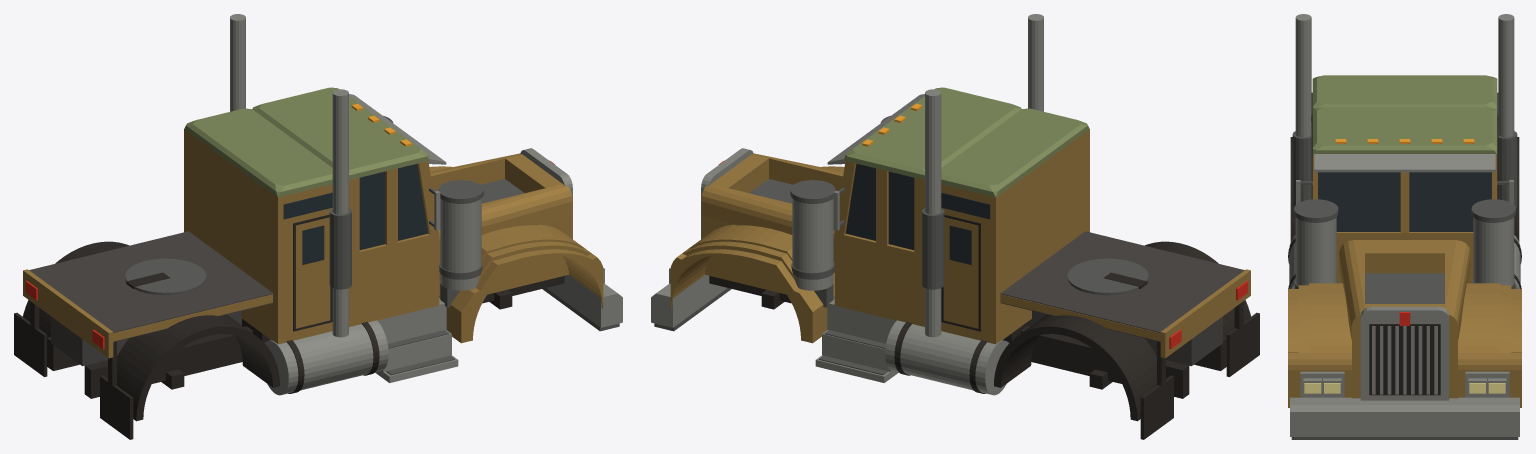
Rendered from base_tractor.glb.
3 views of the same model, side by side, from view 1: azimuth 30°, elevation 25°; view 2: azimuth 150°, elevation 25°; view 3: azimuth 270°, elevation 25° (orthographic).
Parts seen in each view (by area): view 1: base_tractor; view 2: base_tractor; view 3: base_tractor.
Part boxes in pixels (x1=…): base_tractor: x1=14, y1=14, x2=622, y2=439; base_tractor: x1=651, y1=14, x2=1259, y2=439; base_tractor: x1=1288, y1=14, x2=1521, y2=439.
Size of the model in its own units: 6.4 by 3.62 by 2.63.
